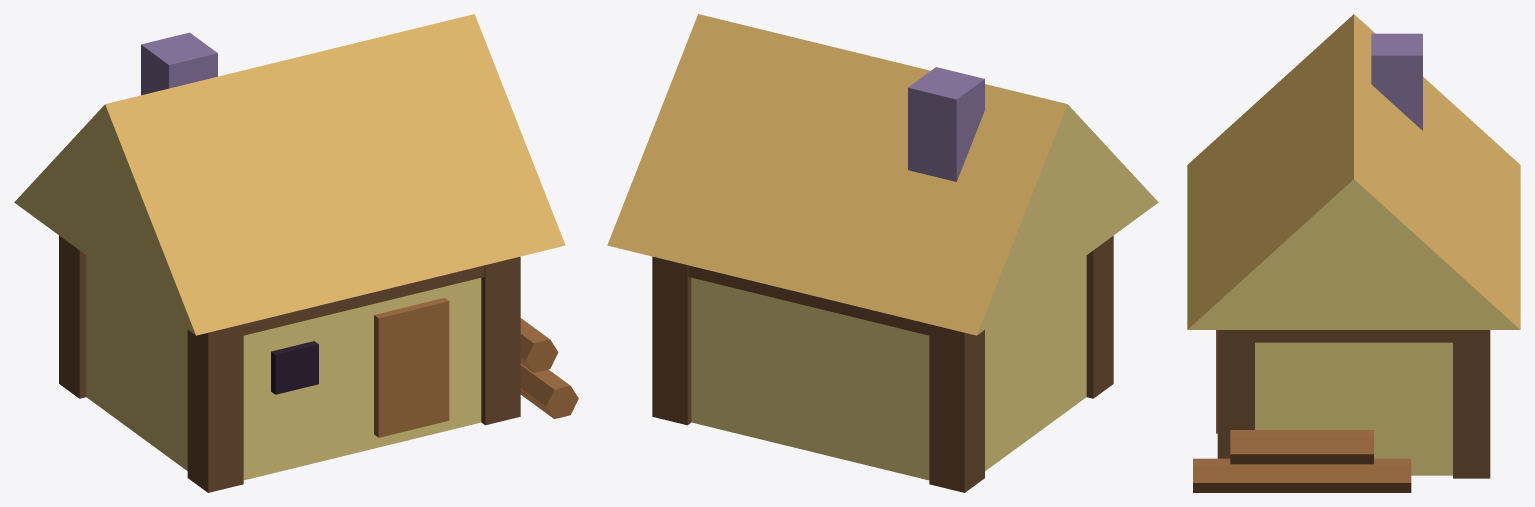
File: cottage.glb
3 renders of one model, left to right at view 1: azimuth 30°, elevation 25°; view 2: azimuth 150°, elevation 25°; view 3: azimuth 270°, elevation 25°, orthographic. The views are drawn at different scales.
Visible parts, largest first — view 1: Model; view 2: Model; view 3: Model.
Boxes of the visible parts, x1,y1,x2,y2 form: Model: [14, 14, 578, 492]; Model: [607, 14, 1158, 492]; Model: [1187, 14, 1520, 492].
Bounding box in the file's own units: 1.42 × 1.25 × 1.16.
